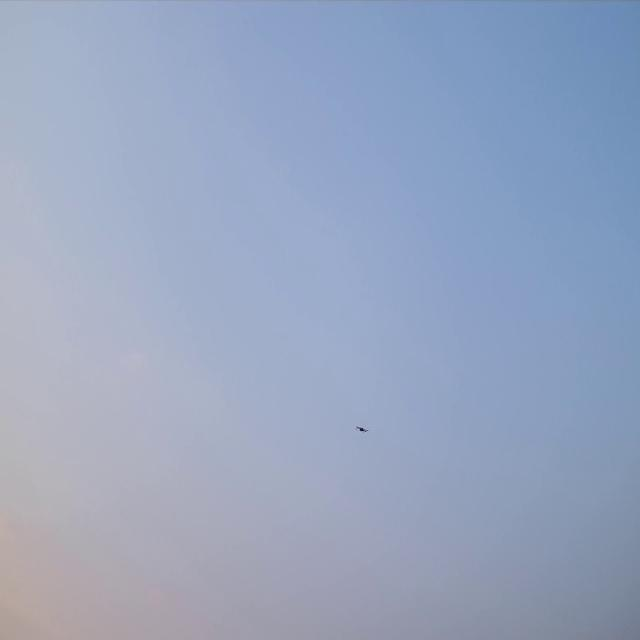UAV: (356, 427, 366, 431)
